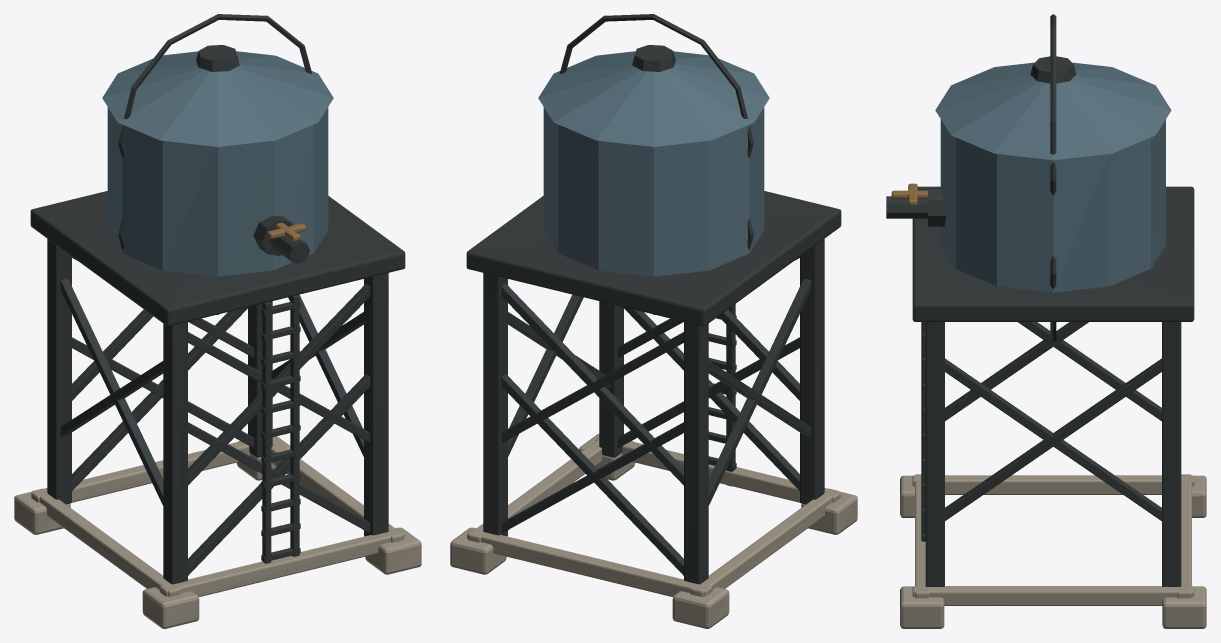
File: water-tower.source.glb
3 renders of one model, left to right at view 1: azimuth 30°, elevation 25°; view 2: azimuth 150°, elevation 25°; view 3: azimuth 270°, elevation 25°, orthographic. The views are drawn at different scales.
Visible parts, largest first — view 1: water-tower-tank-shell-mesh, water-tower-tank-cradle-mesh, water-tower-tank-roof-mesh, water-tower-leg--1.28-1.28-mesh, water-tower-leg-1.28-1.28-mesh, water-tower-leg--1.28--1.28-mesh, water-tower-base-rail-1.42-mesh, water-tower-base-rail-x--1.42-mesh, water-tower-sidebrace-a--1.28-mesh, water-tower-brace-a-1.28-1.35-mesh, water-tower-brace-a-1.28-2.45-mesh, water-tower-ladder-rail--0.18-mesh (+20 smaller); view 2: water-tower-tank-shell-mesh, water-tower-tank-cradle-mesh, water-tower-tank-roof-mesh, water-tower-leg--1.28--1.28-mesh, water-tower-leg-1.28--1.28-mesh, water-tower-leg--1.28-1.28-mesh, water-tower-base-rail--1.42-mesh, water-tower-base-rail-x--1.42-mesh, water-tower-brace-a--1.28-1.35-mesh, water-tower-brace-a--1.28-2.45-mesh, water-tower-leg-1.28-1.28-mesh, water-tower-sidebrace-b--1.28-mesh (+17 smaller); view 3: water-tower-tank-shell-mesh, water-tower-tank-roof-mesh, water-tower-tank-cradle-mesh, water-tower-leg-1.28-1.28-mesh, water-tower-leg-1.28--1.28-mesh, water-tower-base-rail-x-1.42-mesh, water-tower-base-rail-x--1.42-mesh, water-tower-sidebrace-a-1.28-mesh, water-tower-sidebrace-b-1.28-mesh, water-tower-sidebrace-a--1.28-mesh, water-tower-sidebrace-b--1.28-mesh, water-tower-foot-1.42-1.42-mesh (+10 smaller).
Part boxes in pixels (bbox=[...]): water-tower-tank-shell-mesh: bbox=[107, 107, 328, 276]; water-tower-tank-cradle-mesh: bbox=[30, 191, 405, 326]; water-tower-tank-roof-mesh: bbox=[102, 51, 333, 146]; water-tower-leg--1.28-1.28-mesh: bbox=[163, 322, 187, 584]; water-tower-leg-1.28-1.28-mesh: bbox=[364, 273, 388, 536]; water-tower-leg--1.28--1.28-mesh: bbox=[47, 239, 71, 504]; water-tower-base-rail-1.42-mesh: bbox=[159, 528, 404, 596]; water-tower-base-rail-x--1.42-mesh: bbox=[32, 488, 181, 596]; water-tower-sidebrace-a--1.28-mesh: bbox=[60, 278, 163, 505]; water-tower-brace-a-1.28-1.35-mesh: bbox=[188, 374, 370, 575]; water-tower-brace-a-1.28-2.45-mesh: bbox=[188, 283, 370, 485]; water-tower-ladder-rail--0.18-mesh: bbox=[262, 302, 271, 563]; water-tower-tank-shell-mesh: bbox=[543, 107, 764, 276]; water-tower-tank-cradle-mesh: bbox=[466, 191, 841, 326]; water-tower-tank-roof-mesh: bbox=[538, 51, 769, 146]; water-tower-leg--1.28--1.28-mesh: bbox=[684, 322, 708, 584]; water-tower-leg-1.28--1.28-mesh: bbox=[483, 273, 507, 536]; water-tower-leg--1.28-1.28-mesh: bbox=[800, 239, 824, 504]; water-tower-base-rail--1.42-mesh: bbox=[467, 528, 712, 596]; water-tower-base-rail-x--1.42-mesh: bbox=[690, 488, 839, 596]; water-tower-brace-a--1.28-1.35-mesh: bbox=[501, 374, 683, 575]; water-tower-brace-a--1.28-2.45-mesh: bbox=[501, 283, 683, 485]; water-tower-leg-1.28-1.28-mesh: bbox=[599, 301, 623, 457]; water-tower-sidebrace-b--1.28-mesh: bbox=[708, 278, 811, 505]; water-tower-tank-shell-mesh: bbox=[940, 119, 1165, 292]; water-tower-tank-roof-mesh: bbox=[935, 62, 1171, 160]; water-tower-tank-cradle-mesh: bbox=[912, 186, 1194, 321]; water-tower-leg-1.28-1.28-mesh: bbox=[925, 322, 944, 586]; water-tower-leg-1.28--1.28-mesh: bbox=[1162, 322, 1181, 586]; water-tower-base-rail-x-1.42-mesh: bbox=[912, 586, 1194, 605]; water-tower-base-rail-x--1.42-mesh: bbox=[912, 475, 1194, 494]; water-tower-sidebrace-a-1.28-mesh: bbox=[945, 358, 1161, 520]; water-tower-sidebrace-b-1.28-mesh: bbox=[945, 358, 1161, 520]; water-tower-sidebrace-a--1.28-mesh: bbox=[945, 322, 1088, 420]; water-tower-sidebrace-b--1.28-mesh: bbox=[1018, 322, 1161, 421]; water-tower-foot-1.42-1.42-mesh: bbox=[900, 586, 944, 628].
Bounding box in the file's own units: 3.32 × 6.46 × 3.47.
